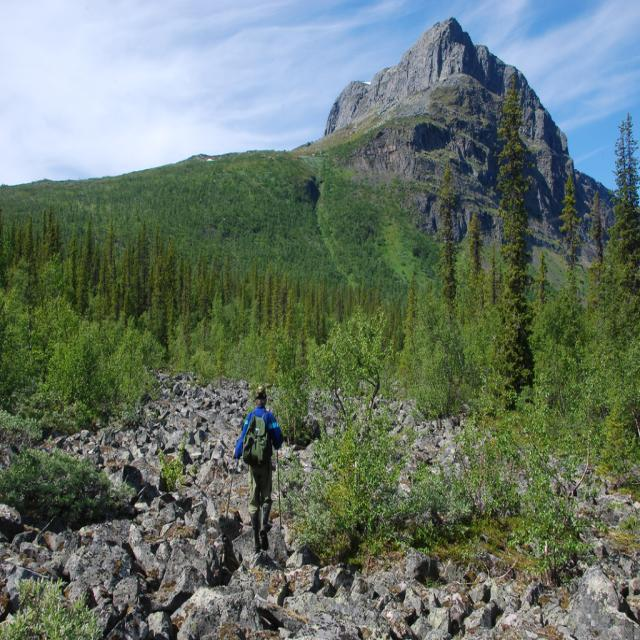backpack: (238, 414, 270, 467)
